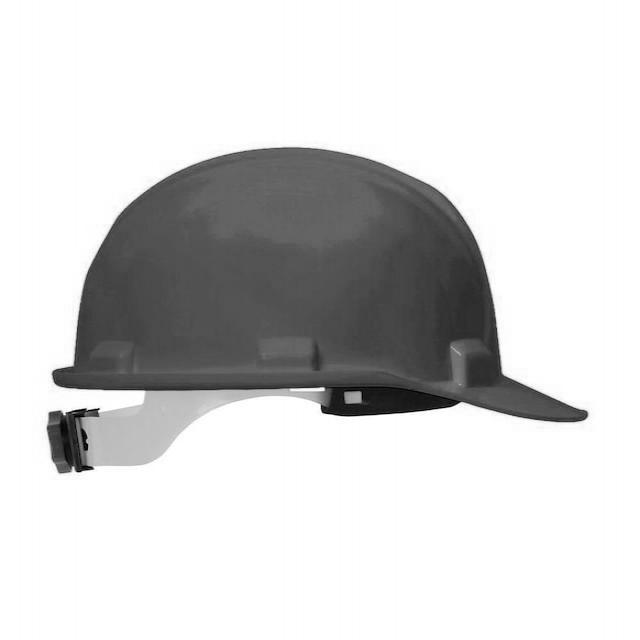construction helmet: (48, 148, 588, 474)
